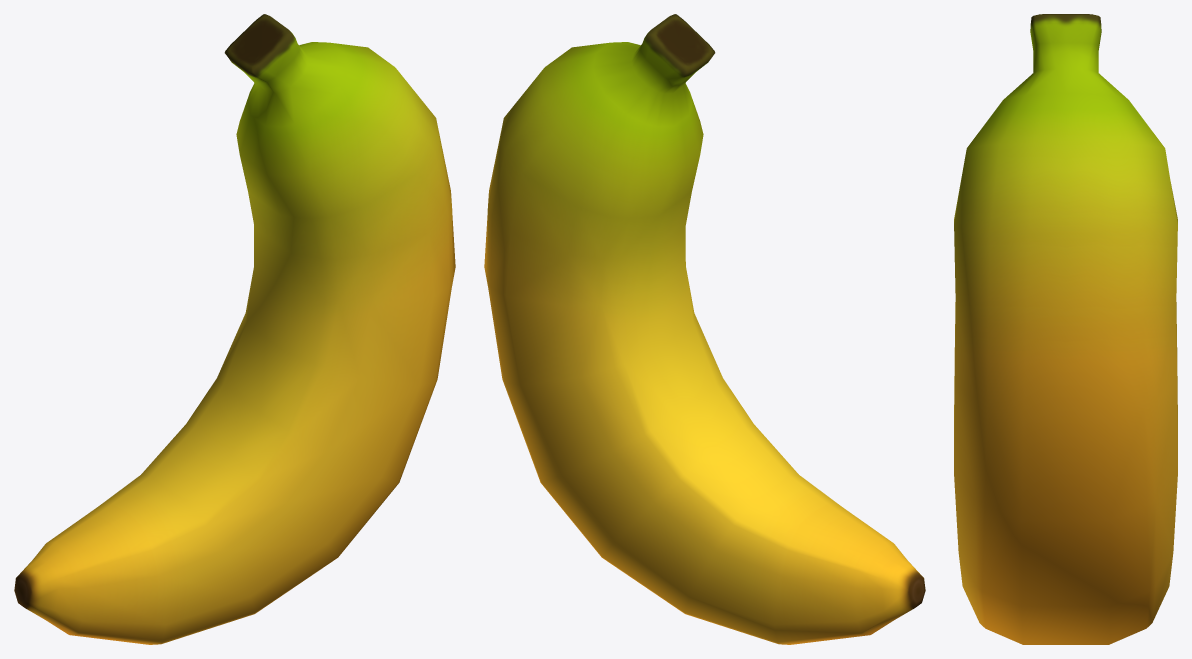
The model's file is Banana.fbx.
3 renders of one model, left to right at view 1: azimuth 30°, elevation 25°; view 2: azimuth 150°, elevation 25°; view 3: azimuth 270°, elevation 25°, orthographic. The views are drawn at different scales.
Parts seen in each view (by area): view 1: Banana; view 2: Banana; view 3: Banana.
Boxes of the visible parts, x1=… form: Banana: x1=14, y1=14, x2=455, y2=644; Banana: x1=484, y1=14, x2=925, y2=644; Banana: x1=954, y1=14, x2=1177, y2=644.
Size of the model in its own units: 162 by 215 by 64.96.
1 material, 1 textured.
